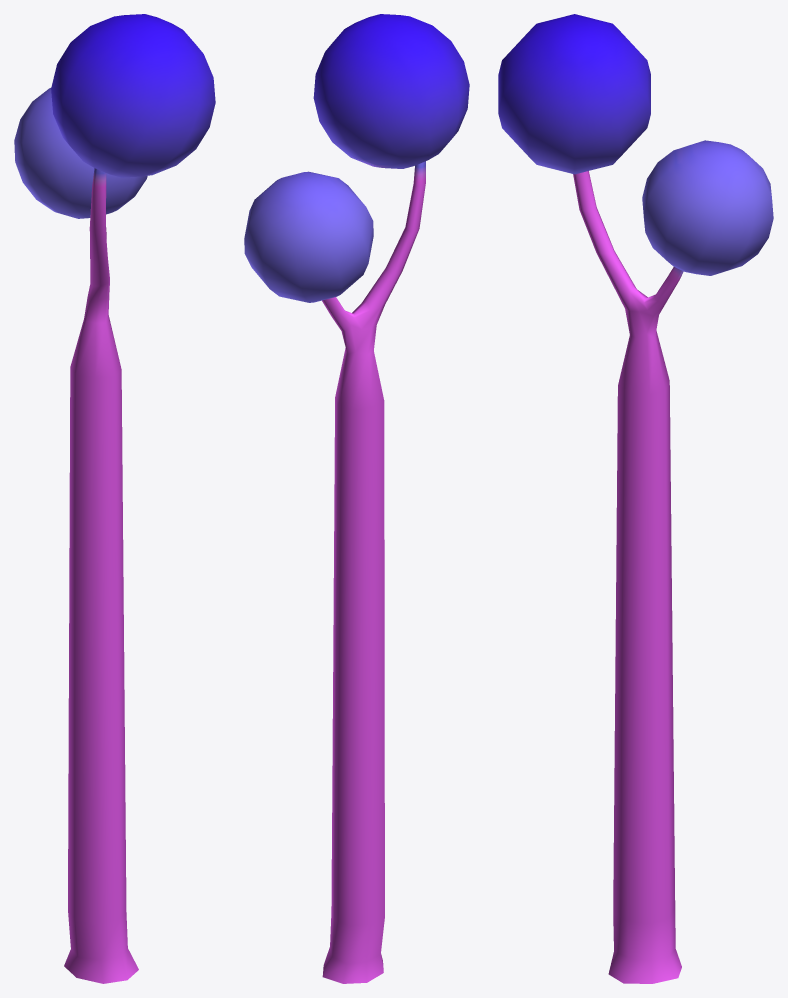
Rendered from Tree10.fbx.
3 renders of one model, left to right at view 1: azimuth 30°, elevation 25°; view 2: azimuth 150°, elevation 25°; view 3: azimuth 270°, elevation 25°, orthographic. The views are drawn at different scales.
Visible parts, largest first — view 1: Tree10; view 2: Tree10; view 3: Tree10.
Part boxes in pixels (left/top/right/bottom): Tree10: left=14, top=14, right=215, bottom=983; Tree10: left=244, top=14, right=469, bottom=983; Tree10: left=498, top=14, right=773, bottom=983.
Bounding box in the file's own units: 738 × 4576 × 1206.
